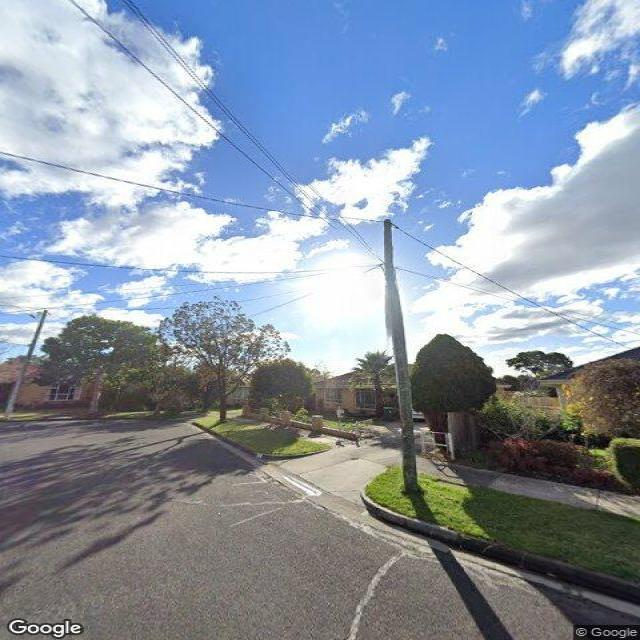timber-pole: (383, 219, 419, 494), (5, 308, 49, 417)
